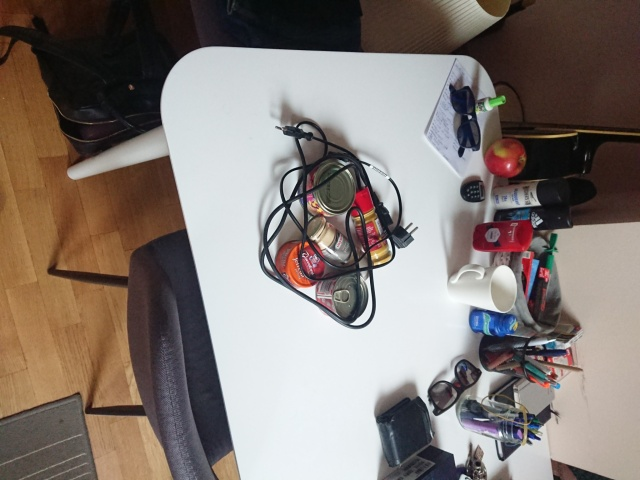Gavrilovic Pork Liver Pate 100g: (273, 238, 327, 290)
Giana Tuna Salad Mexico 185g: (295, 160, 357, 222)
Kotanyi Curry Spices Mix 70g: (346, 184, 395, 268)
Kotanyi Garlic Granules 70g: (302, 212, 375, 285)
Podravka Luncheon Meat 150g: (314, 267, 370, 324)
